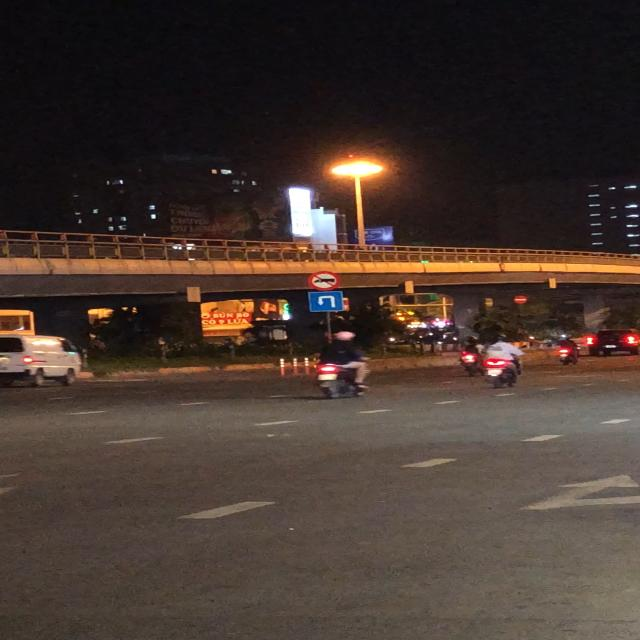Bien bao cam xe so-mi ro-mooc: (307, 270, 341, 292)
